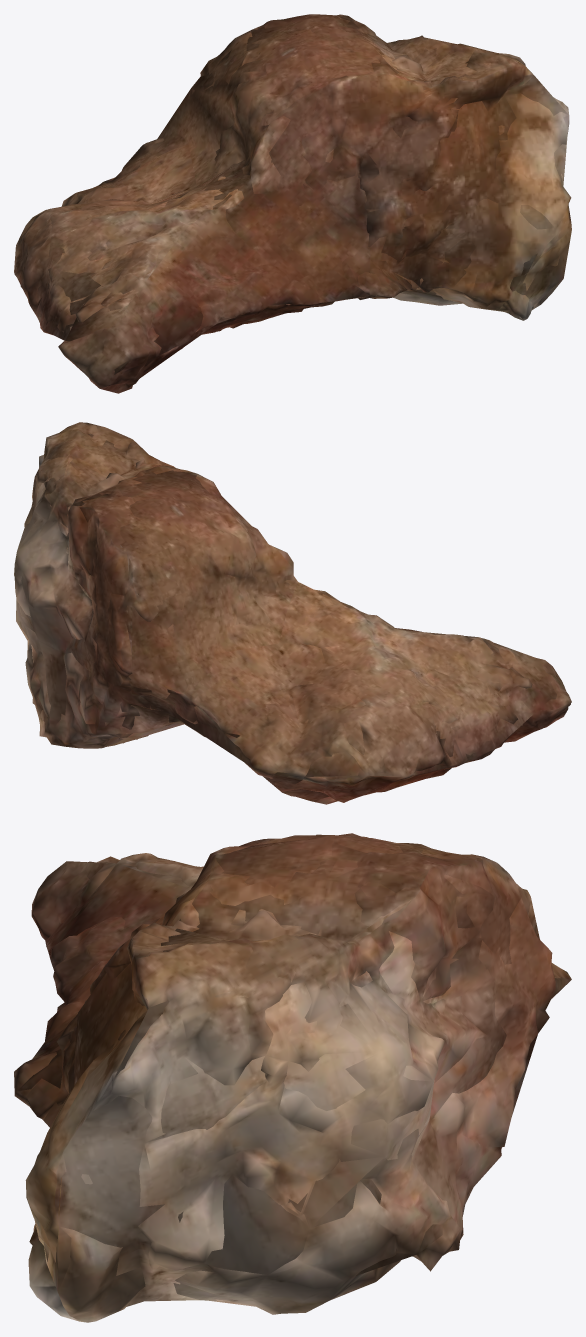
The model's file is stone_01.glb.
3 renders of one model, top to bottom at view 1: azimuth 30°, elevation 25°; view 2: azimuth 150°, elevation 25°; view 3: azimuth 270°, elevation 25°, orthographic. The views are drawn at different scales.
Parts seen in each view (by area): view 1: stone_01, stone_01_lo; view 2: stone_01, stone_01_lo; view 3: stone_01, stone_01_lo.
Part boxes in pixels (x1,y1,x2,y2): stone_01: (14,14,571,393); stone_01_lo: (14,14,571,393); stone_01: (14,422,571,804); stone_01_lo: (16,433,566,801); stone_01: (14,833,571,1322); stone_01_lo: (17,836,571,1306).
Bounding box in the file's own units: 0.1469 × 0.0718 × 0.089.
Materials: 1 (1 with a texture image).
